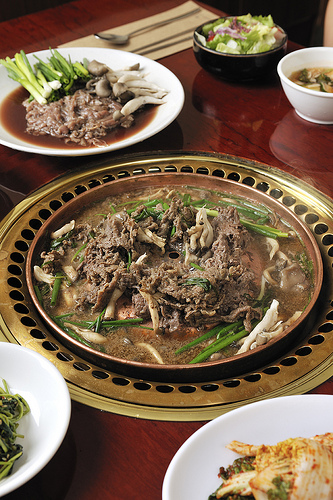bulgogi: (50, 190, 294, 349), (19, 86, 127, 151)
